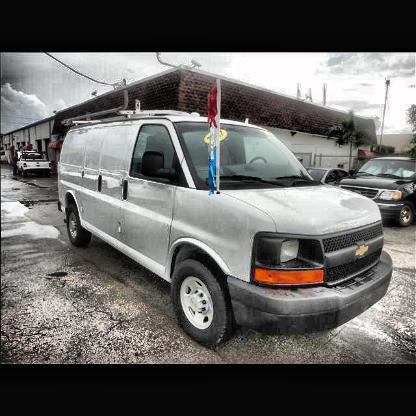Chevrolet Express Cargo Van 2007: (60, 114, 395, 330)
